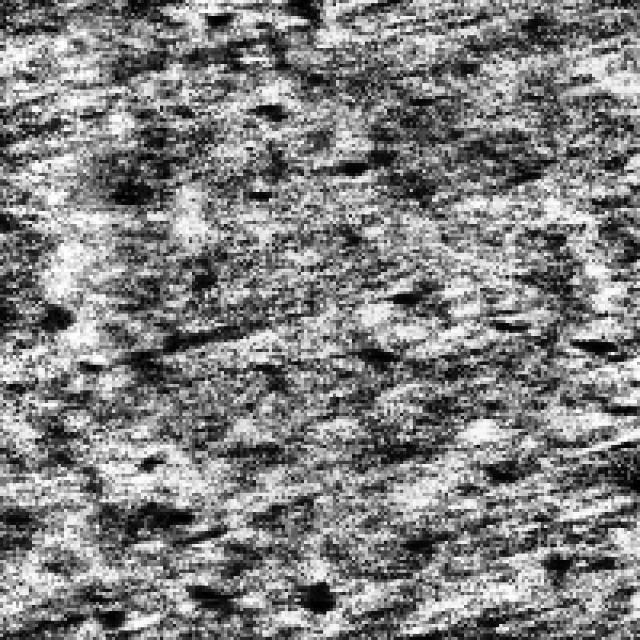Crazing: (116, 10, 282, 198), (68, 477, 262, 637)
